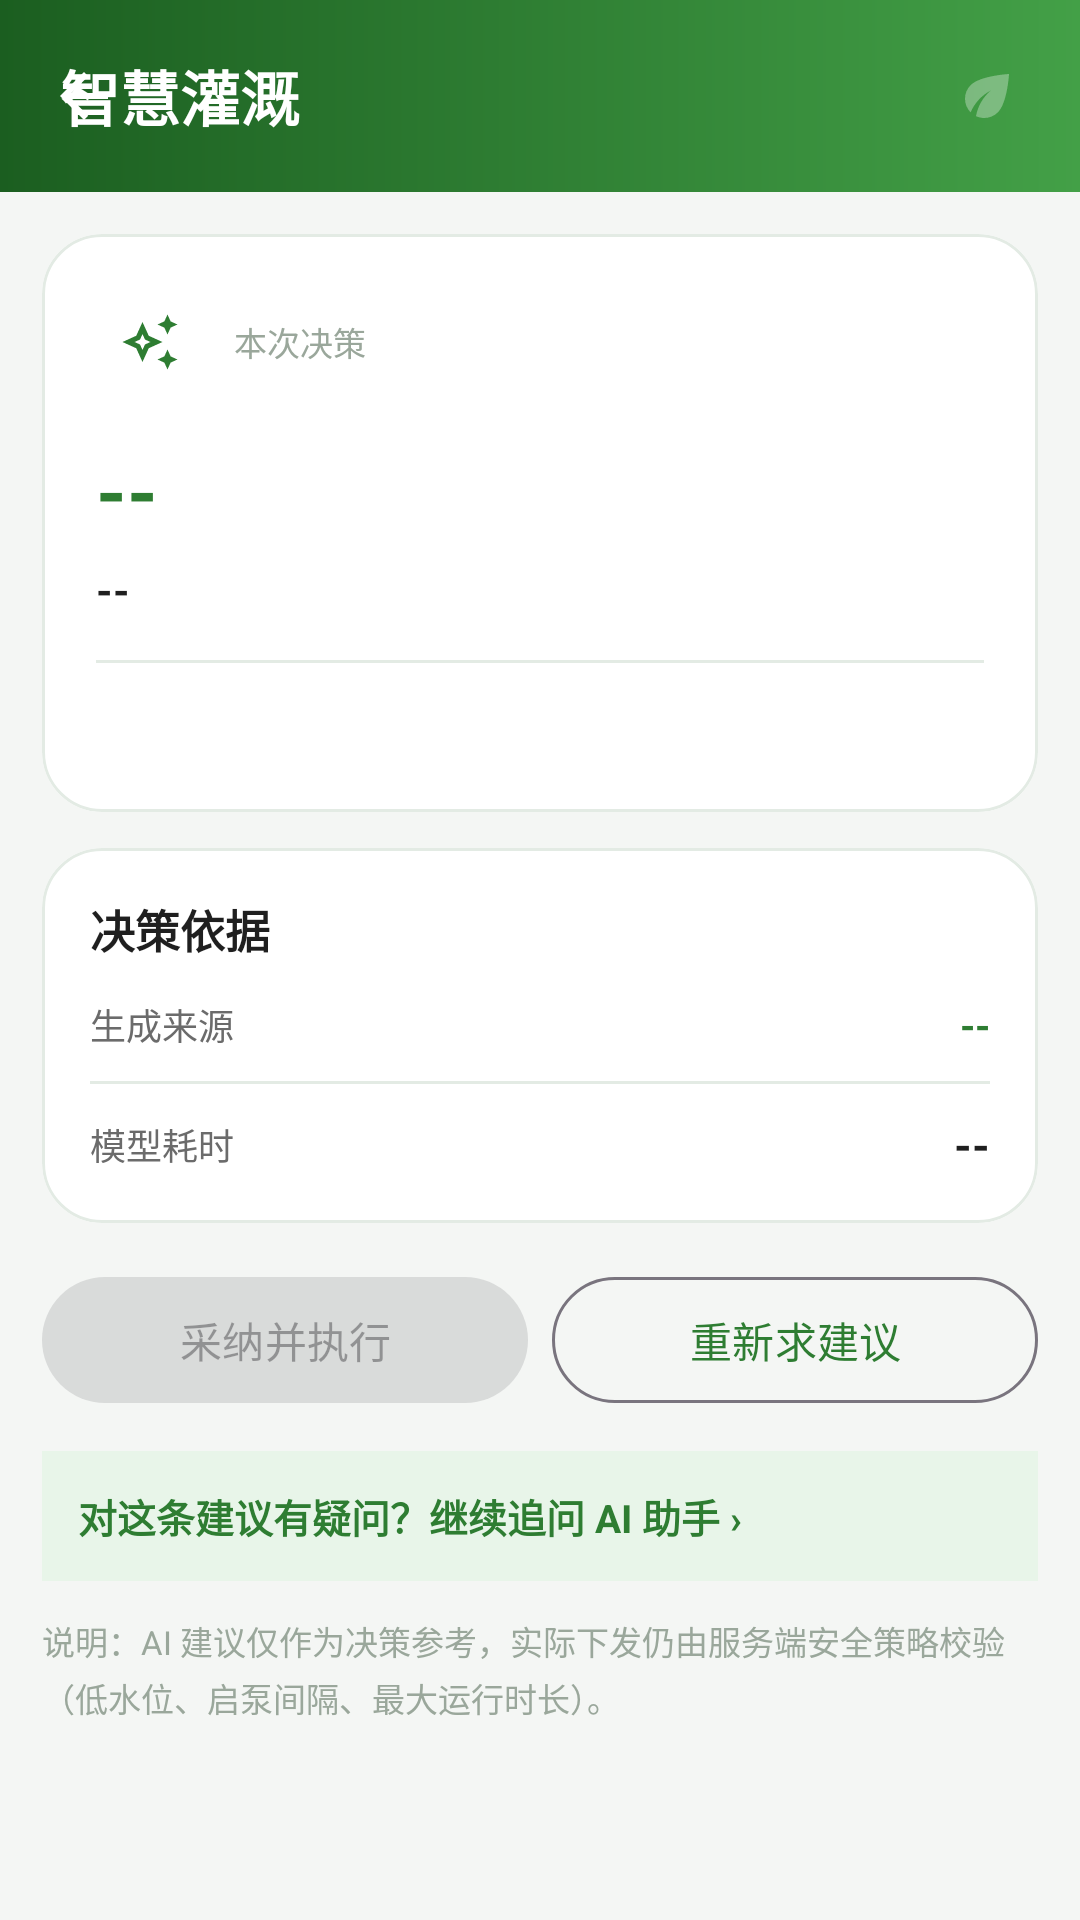

Icons on this 1080x1920 Android screen, each with the point to tap as (x=x, y=y):
leaf: (x=987, y=96)
sparkle: (x=150, y=342)
